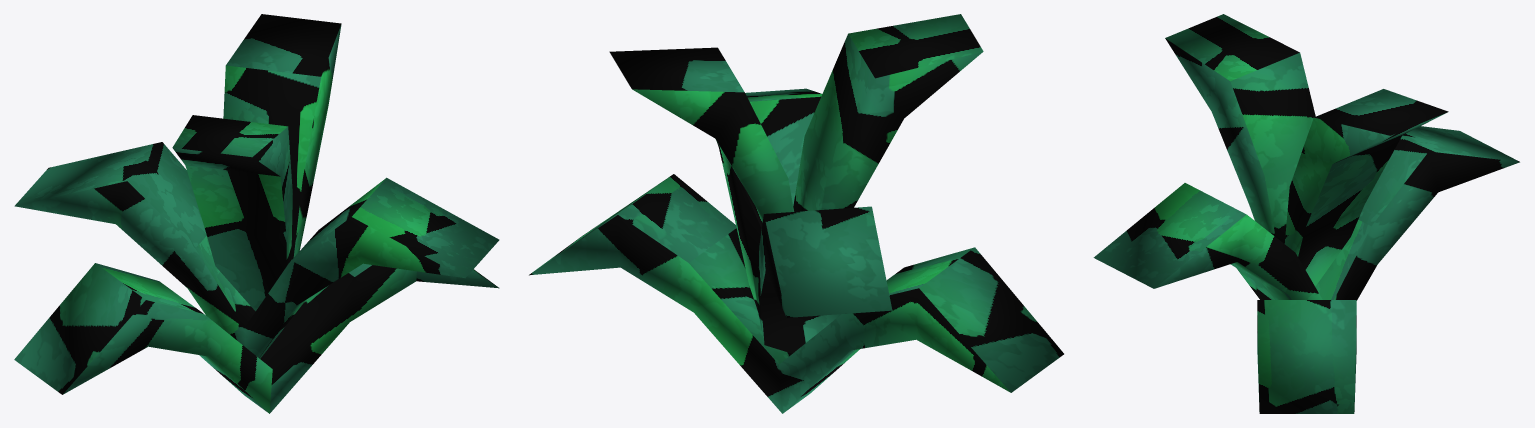
File: BushB.fbx
3 renders of one model, left to right at view 1: azimuth 30°, elevation 25°; view 2: azimuth 150°, elevation 25°; view 3: azimuth 270°, elevation 25°, orthographic. The views are drawn at different scales.
Visible parts, largest first — view 1: BushB; view 2: BushB; view 3: BushB.
Part boxes in pixels (x1=…): BushB: x1=14, y1=14, x2=499, y2=413; BushB: x1=529, y1=14, x2=1063, y2=413; BushB: x1=1093, y1=14, x2=1519, y2=413.
Size of the model in its own units: 392 by 456 by 318.
